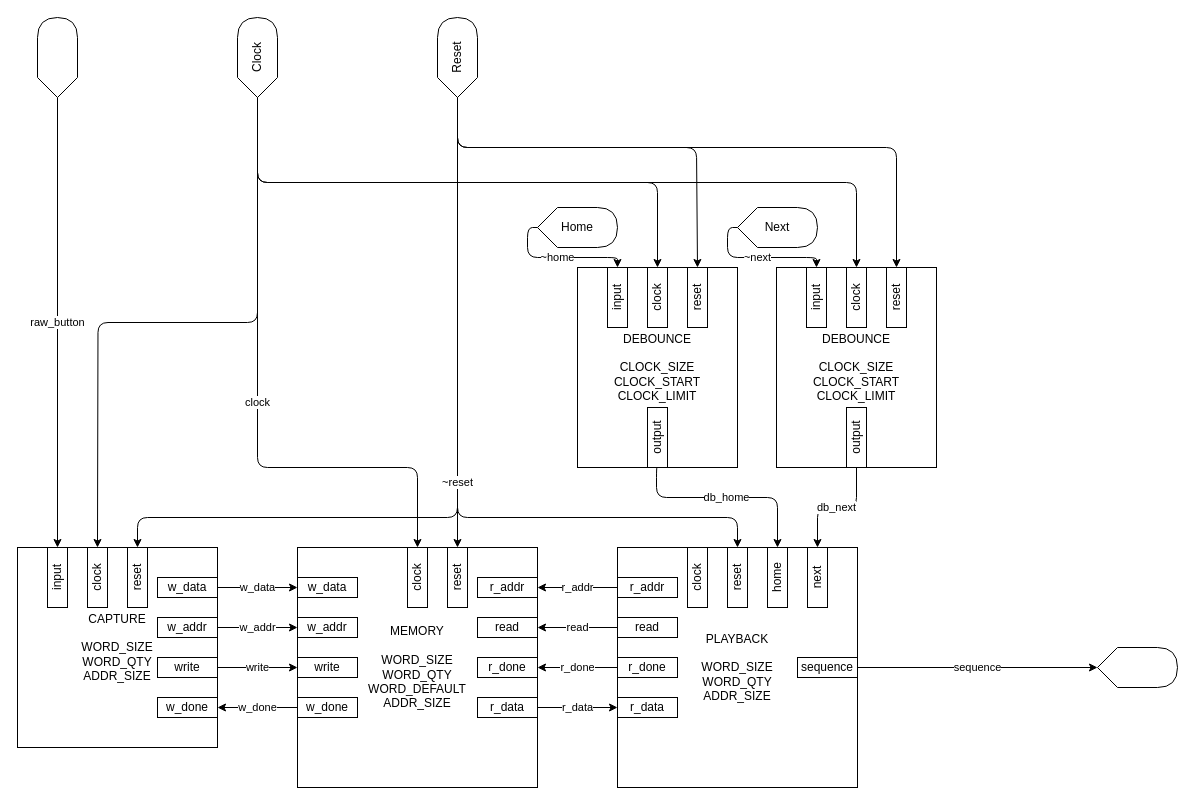
The diagram is 1195 pixels wide and 805 high, and some of its shapes have lost their labels. The centre of each missing label's shape, as x and y in pixels:
LED Output: point (1137, 667)
Raw Button: point (57, 57)
